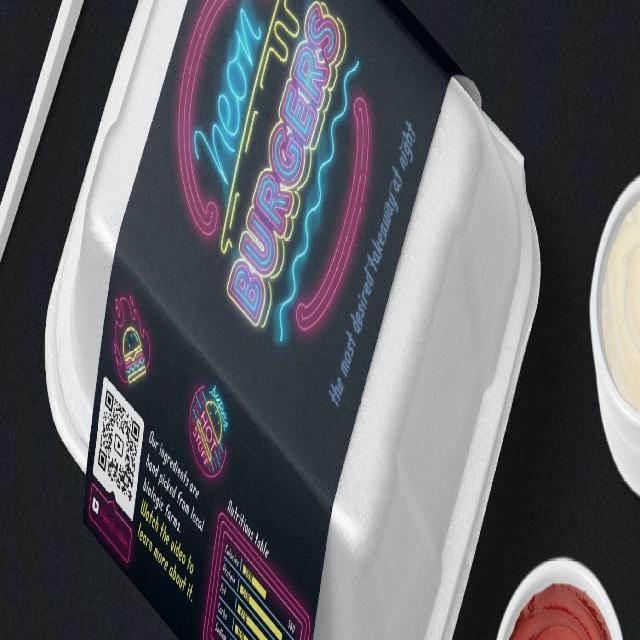qr_code: (98, 390, 141, 501)
